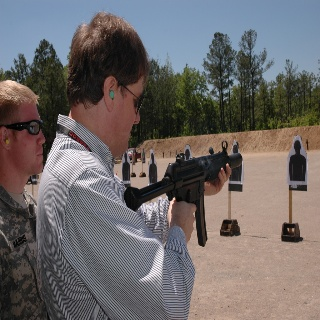rifle: (124, 139, 245, 246)
